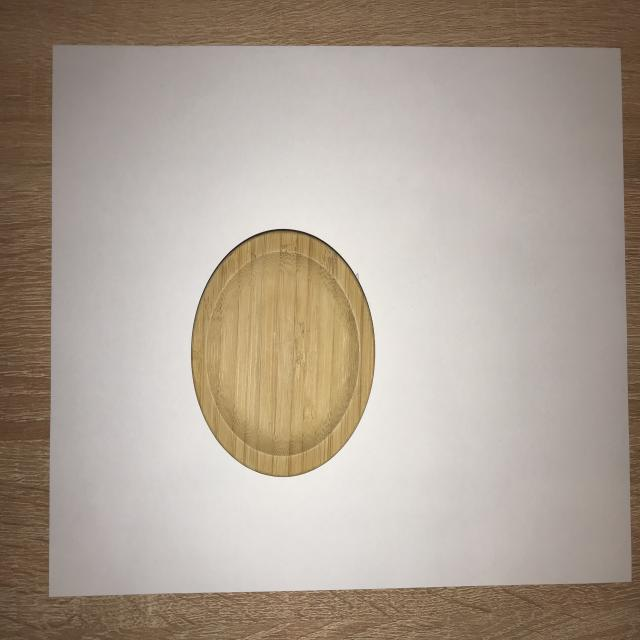cup_holder: (186, 219, 381, 489)
